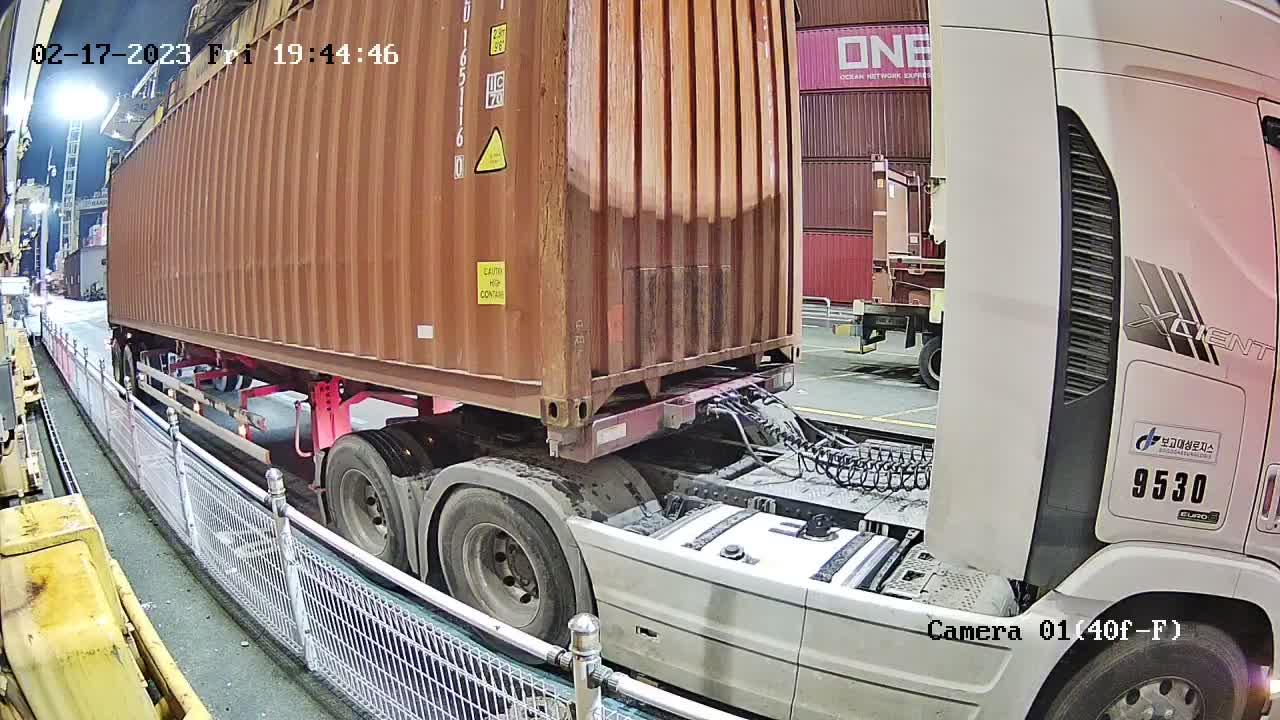Chassis: (563, 367, 795, 460)
Cone: (544, 426, 583, 458)
Hole_L: (566, 367, 617, 427)
Hole_R: (515, 363, 568, 431), (770, 318, 804, 366)
Tire: (440, 488, 570, 642), (328, 436, 401, 562)
